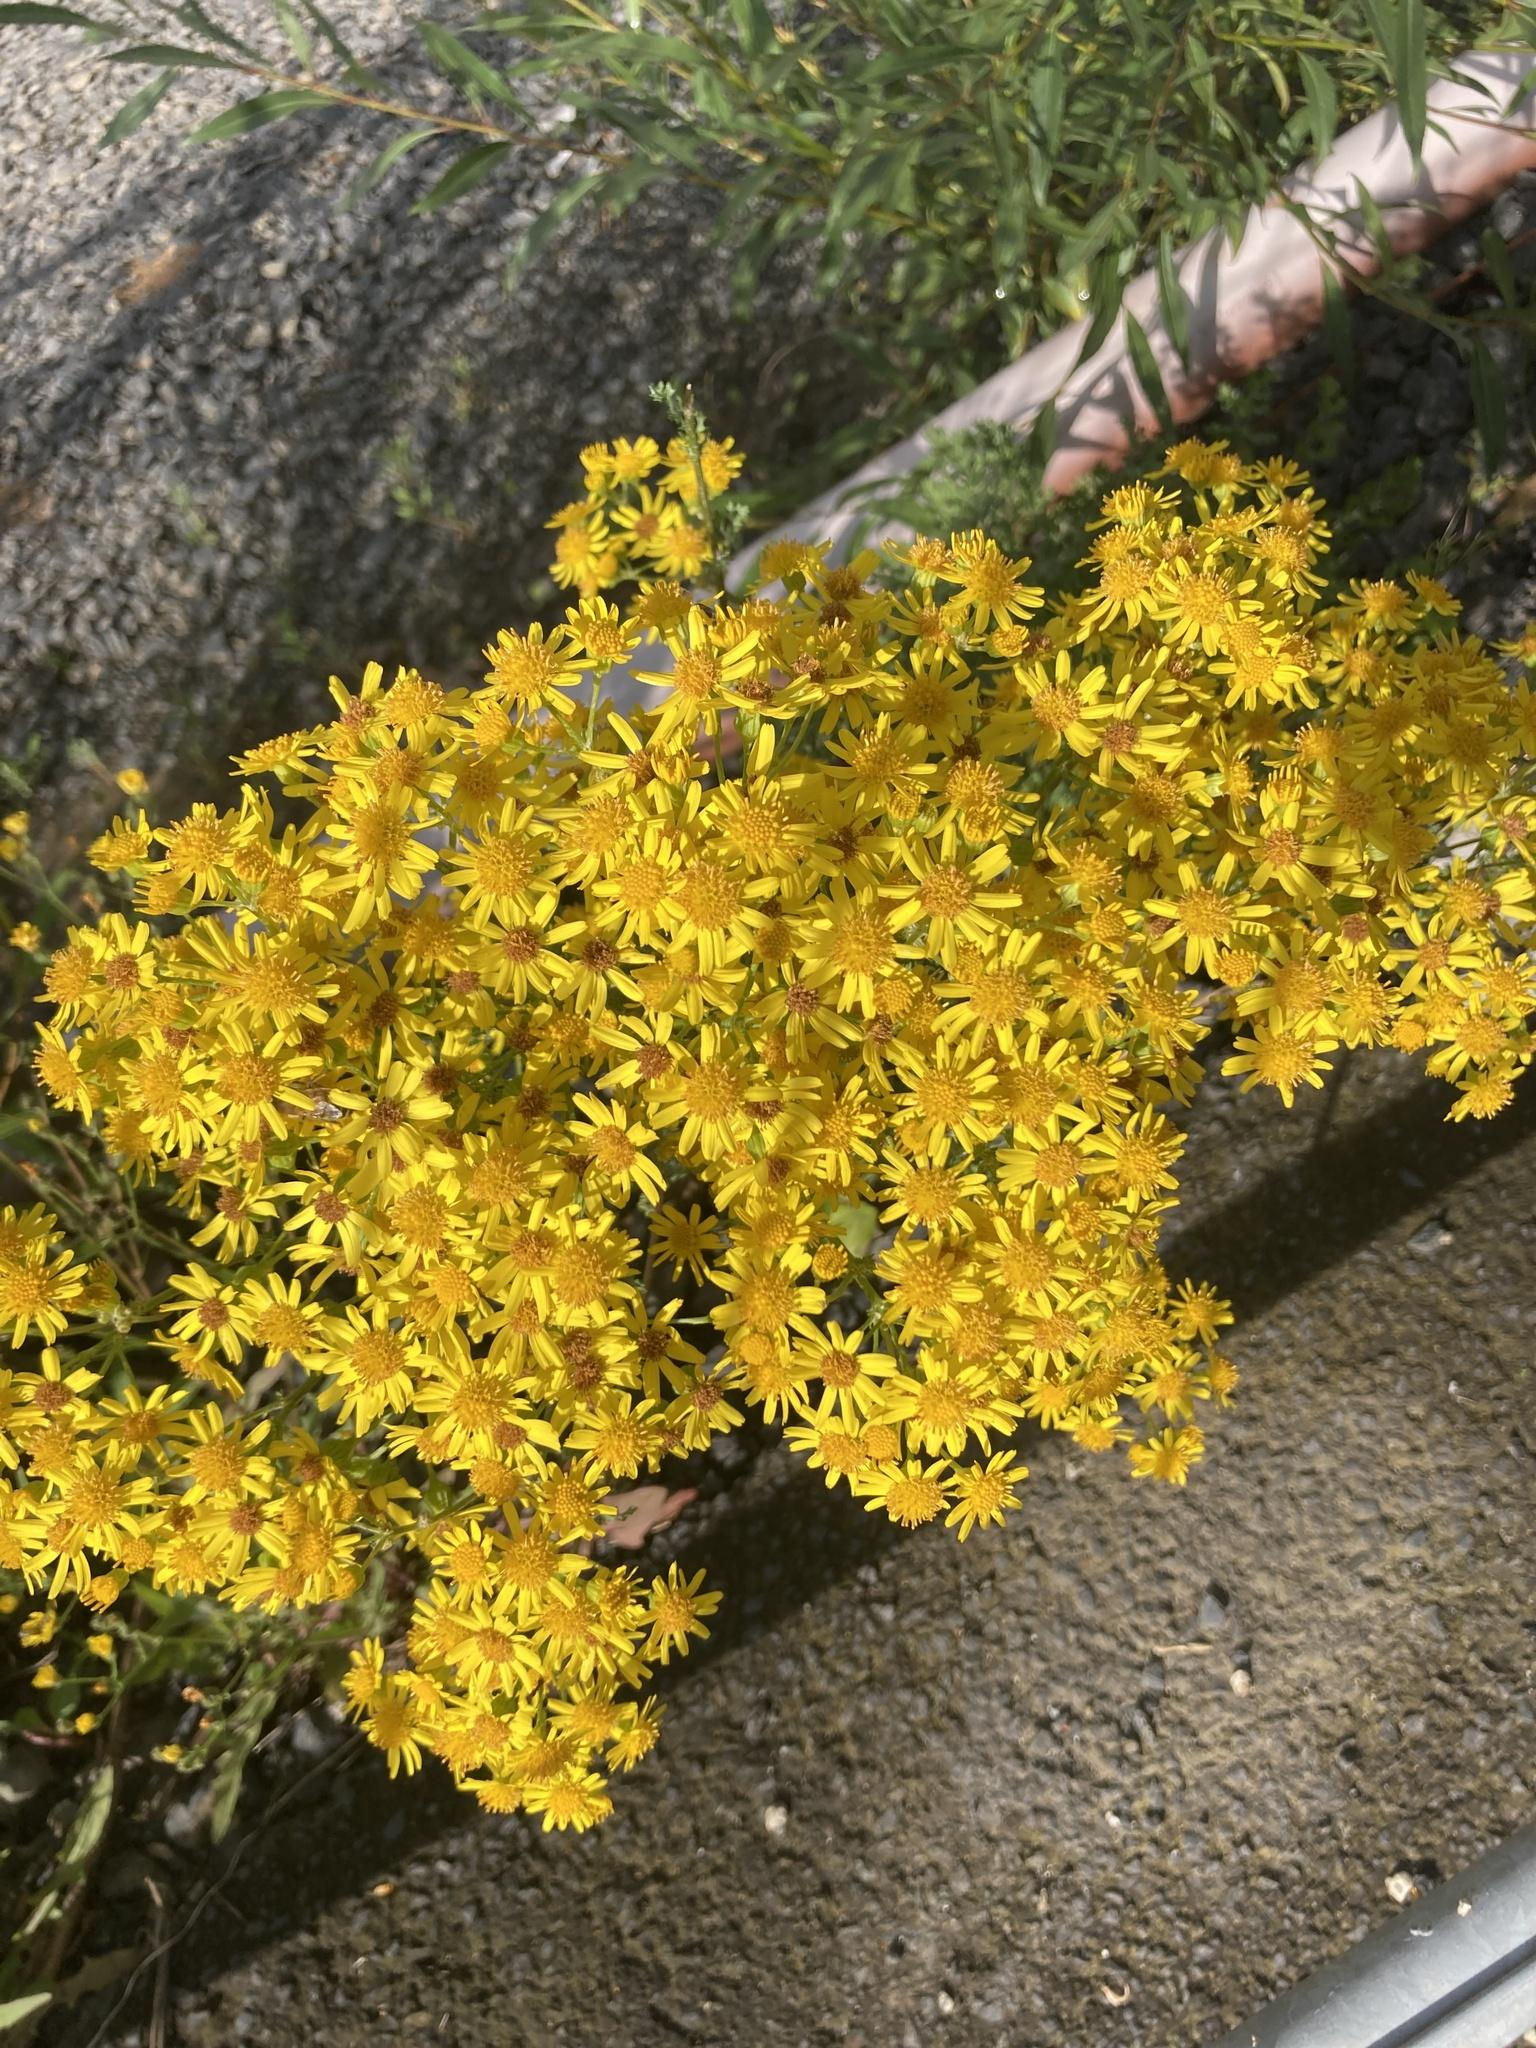Jacobaea vulgaris: (0, 369, 1536, 1874)
